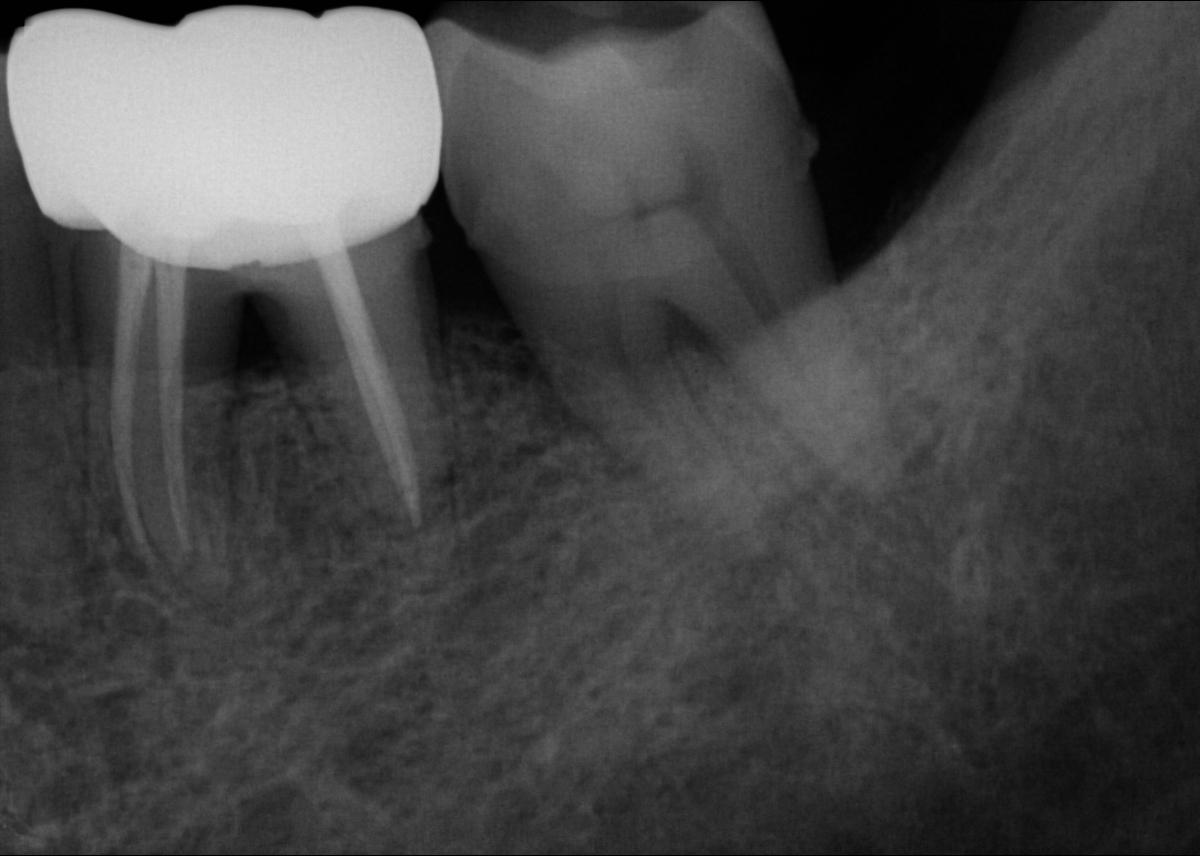Endo-Periodontal Lesion: (227, 294, 301, 384), (666, 306, 712, 355)
